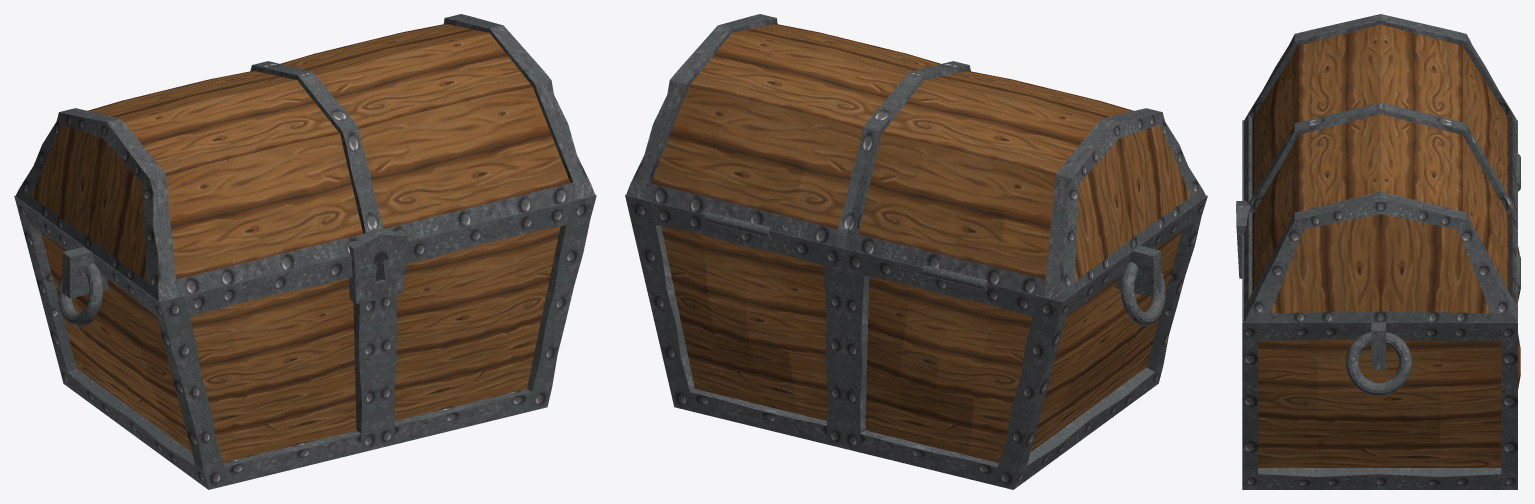
File: baú 1.fbx
3 renders of one model, left to right at view 1: azimuth 30°, elevation 25°; view 2: azimuth 150°, elevation 25°; view 3: azimuth 270°, elevation 25°, orthographic. The views are drawn at different scales.
Visible parts, largest first — view 1: Cylinder, Cube, Cube.003; view 2: Cylinder, Cube, Cube.003; view 3: Cylinder, Cube, Cube.004.
Boxes of the visible parts, x1,y1,x2,y2 form: Cylinder: (15,14,594,301); Cube: (14,194,596,489); Cube.003: (58,246,108,327); Cylinder: (626,14,1206,301); Cube: (625,195,1207,489); Cube.003: (1115,245,1165,325); Cylinder: (1244,14,1520,322); Cube: (1236,120,1520,489); Cube.004: (1345,322,1411,395).
Size of the model in its own units: 602 by 389 by 329.
10 materials, 10 textured.
